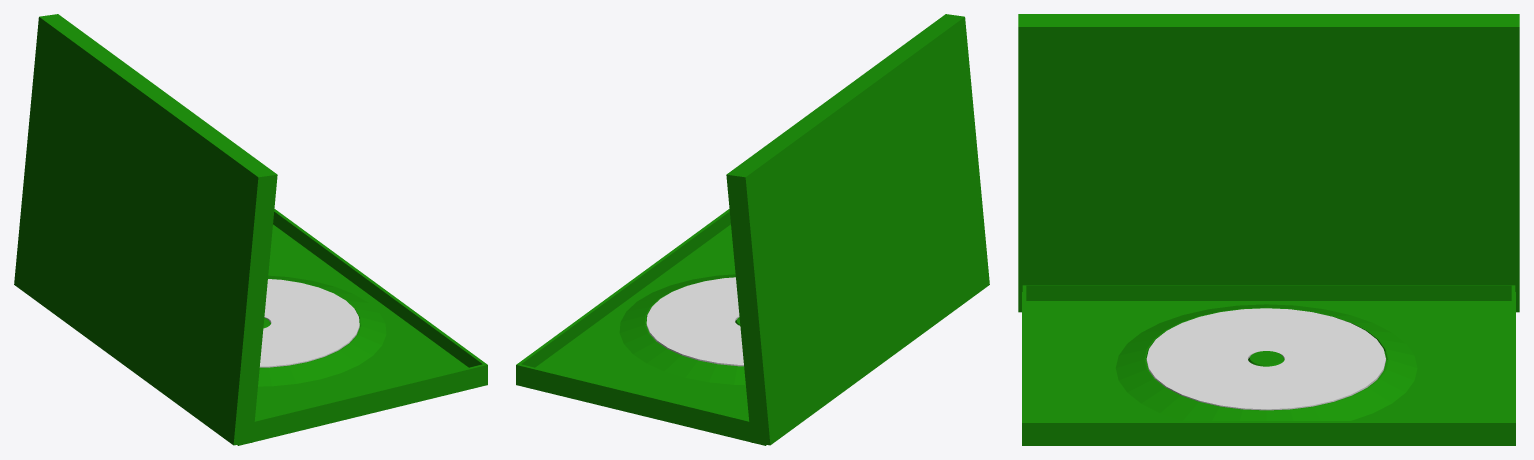
File: XboxOne-Case.fbx
3 views of the same model, side by side, from view 1: azimuth 30°, elevation 25°; view 2: azimuth 150°, elevation 25°; view 3: azimuth 270°, elevation 25° (orthographic). The views are drawn at different scales.
Visible parts, largest first — view 1: Cube.022, Cube.023, Cylinder.021, Cylinder.022; view 2: Cube.022, Cube.023, Cylinder.021, Cylinder.022; view 3: Cube.022, Cube.023, Cylinder.021, Cylinder.022.
Boxes of the visible parts, <box> form: Cube.022: <box>14,14,277,445</box>; Cube.023: <box>237,209,487,445</box>; Cylinder.021: <box>259,279,359,367</box>; Cylinder.022: <box>258,275,386,386</box>; Cube.022: <box>726,14,989,445</box>; Cube.023: <box>516,209,766,445</box>; Cylinder.021: <box>646,277,743,366</box>; Cylinder.022: <box>619,274,745,384</box>; Cube.022: <box>1018,14,1519,312</box>; Cube.023: <box>1022,285,1515,445</box>; Cylinder.021: <box>1146,308,1385,410</box>; Cylinder.022: <box>1115,304,1417,420</box>.
Size of the model in its own units: 130 by 129 by 193.
